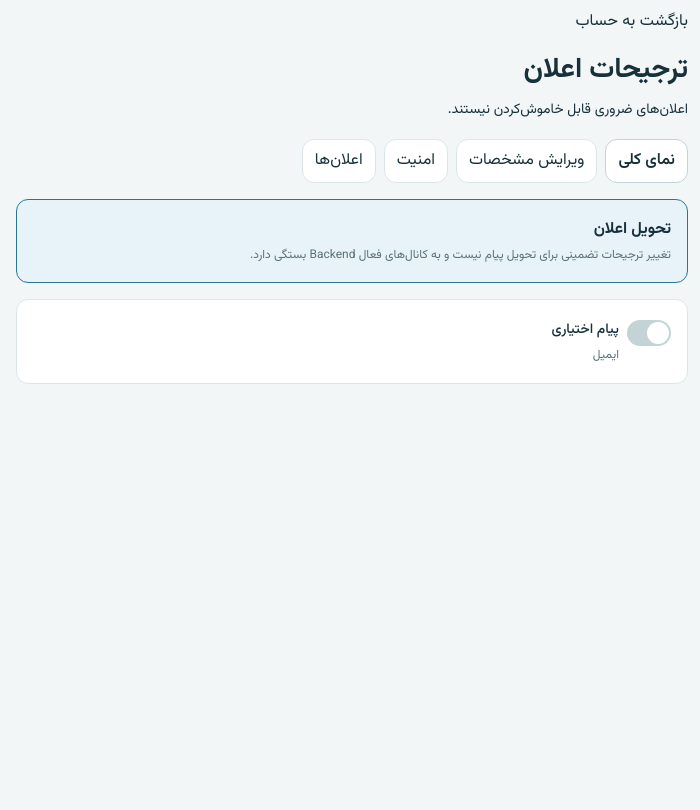
Scenario: customer profile screens › updates optional notification preference and rolls back on failure
Click the switch.
click(649, 333)  # box x1=627 y1=320 x2=671 y2=346
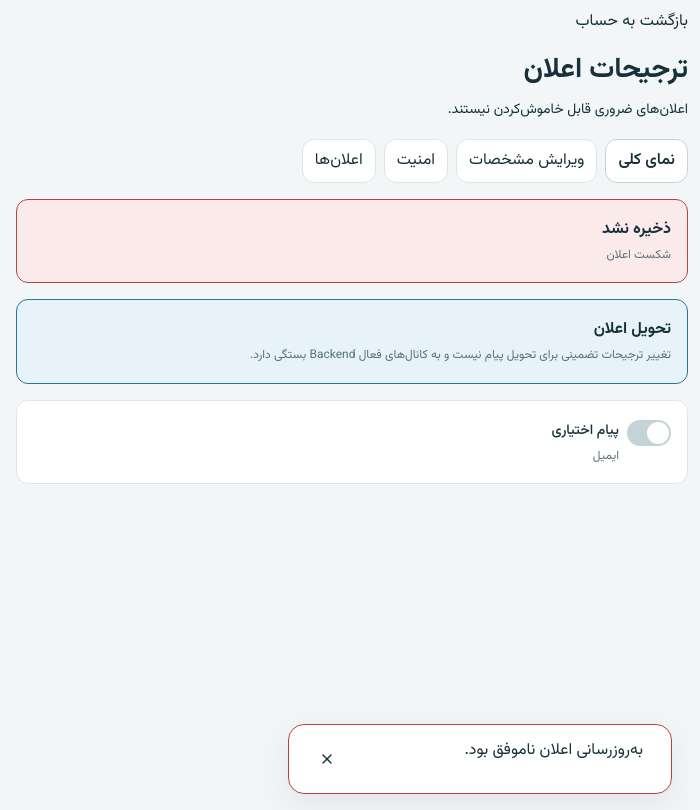
Expected: the text "ذخیره نشد" is shown, x1=602 y1=217 x2=671 y2=242
